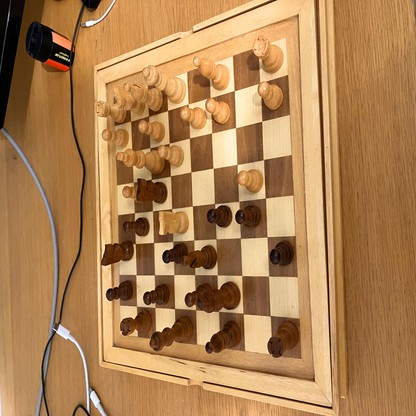bishop_black: (205, 322, 241, 354), (183, 245, 217, 268)
bishop_white: (194, 57, 229, 90), (125, 84, 162, 112)
king_black: (199, 285, 240, 312)
king_white: (117, 149, 164, 172)
knight_black: (102, 243, 133, 265), (137, 180, 167, 202)
knight_white: (113, 87, 144, 115), (159, 210, 189, 234)
pawn_black: (107, 280, 134, 303), (185, 284, 212, 306), (270, 242, 294, 266), (237, 207, 260, 229), (123, 218, 150, 236), (207, 207, 231, 227), (144, 286, 170, 304), (164, 243, 187, 263)
pawn_white: (258, 80, 283, 110), (205, 100, 230, 125), (158, 145, 184, 167), (239, 169, 263, 191), (181, 107, 205, 129), (137, 120, 164, 139), (102, 130, 129, 147), (122, 186, 138, 199)
queen_black: (151, 319, 194, 351)
queen_white: (142, 67, 186, 104)
rock_black: (268, 322, 298, 357), (121, 310, 151, 336)
rock_white: (253, 37, 285, 72), (95, 102, 125, 122)
